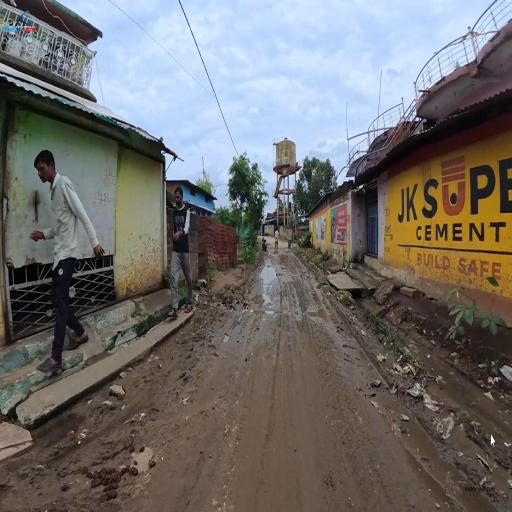drainage_issue: (346, 288, 370, 340)
